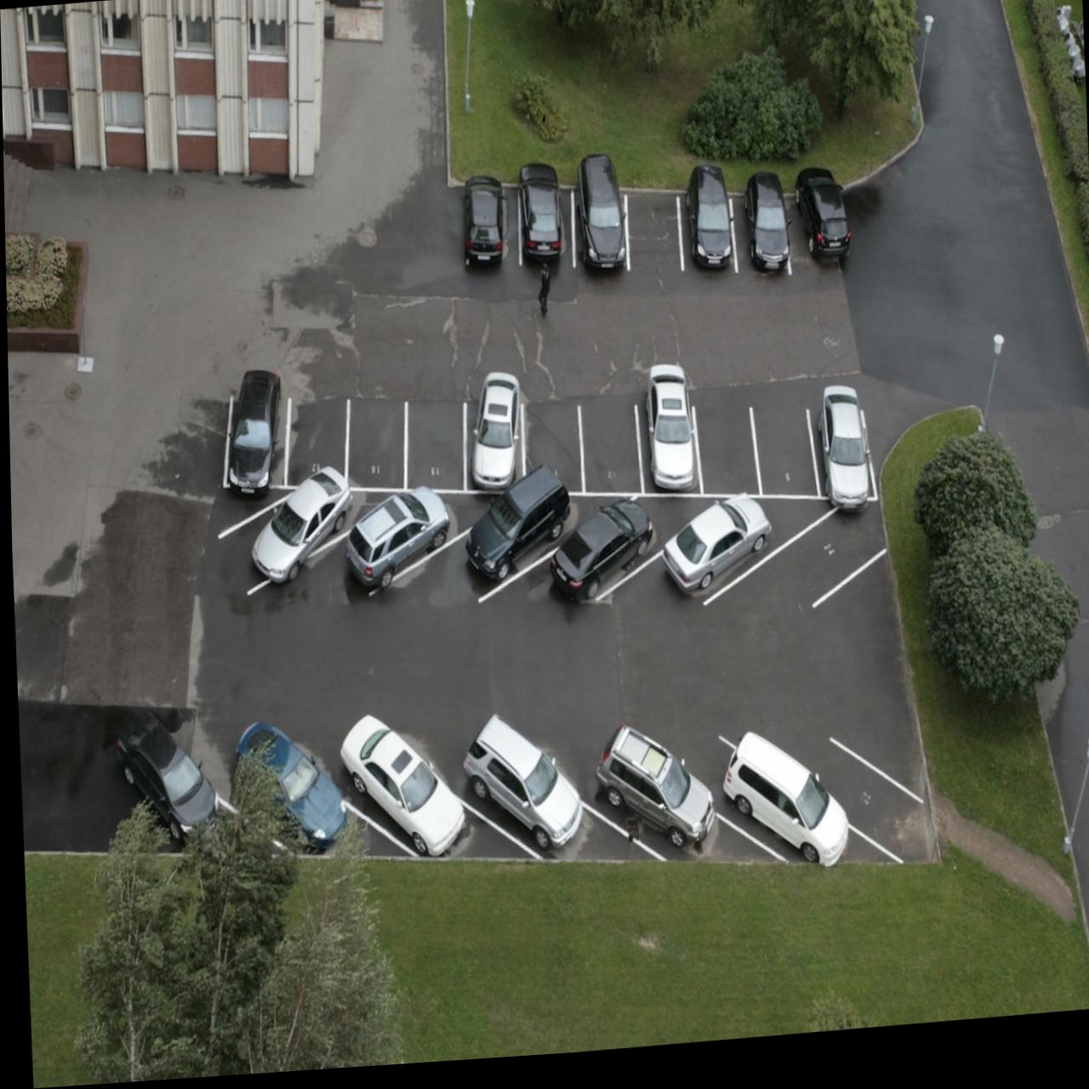cars: (438, 722, 608, 880), (206, 724, 370, 876), (86, 713, 230, 866), (585, 724, 727, 877), (337, 722, 476, 872), (706, 729, 838, 878), (650, 482, 784, 628), (435, 469, 581, 588), (535, 485, 663, 619), (331, 478, 454, 590), (224, 493, 350, 592), (216, 363, 289, 492), (457, 371, 533, 486), (814, 381, 882, 507), (643, 380, 706, 508), (456, 178, 515, 282), (518, 182, 572, 292), (732, 184, 788, 286), (565, 191, 624, 284), (788, 187, 838, 296), (684, 183, 733, 281)
empty: (743, 489, 896, 627), (761, 731, 924, 850), (394, 387, 476, 494), (689, 387, 753, 506), (517, 381, 580, 500), (749, 392, 813, 508), (344, 393, 411, 498), (289, 384, 355, 488), (577, 395, 641, 499), (622, 191, 687, 287)
